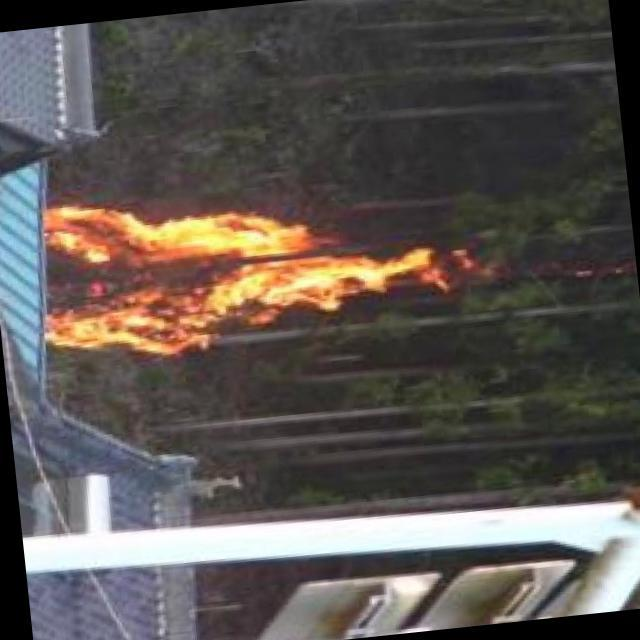Fire: (32, 163, 454, 365)
